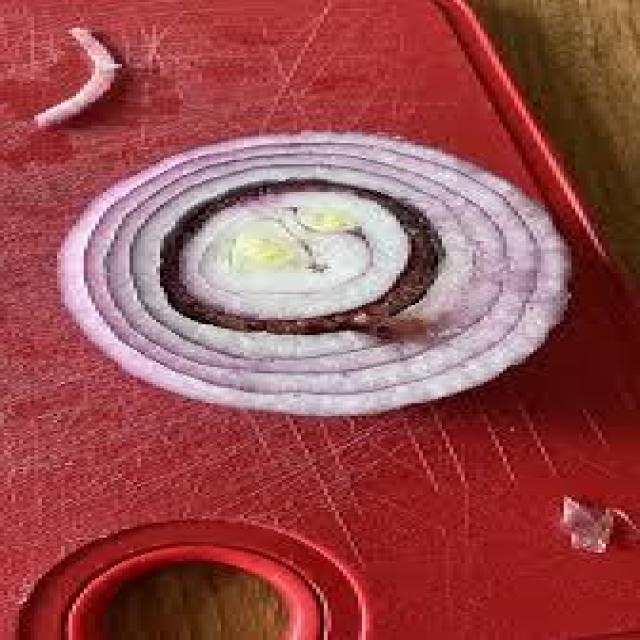Onion: (42, 128, 579, 422)
